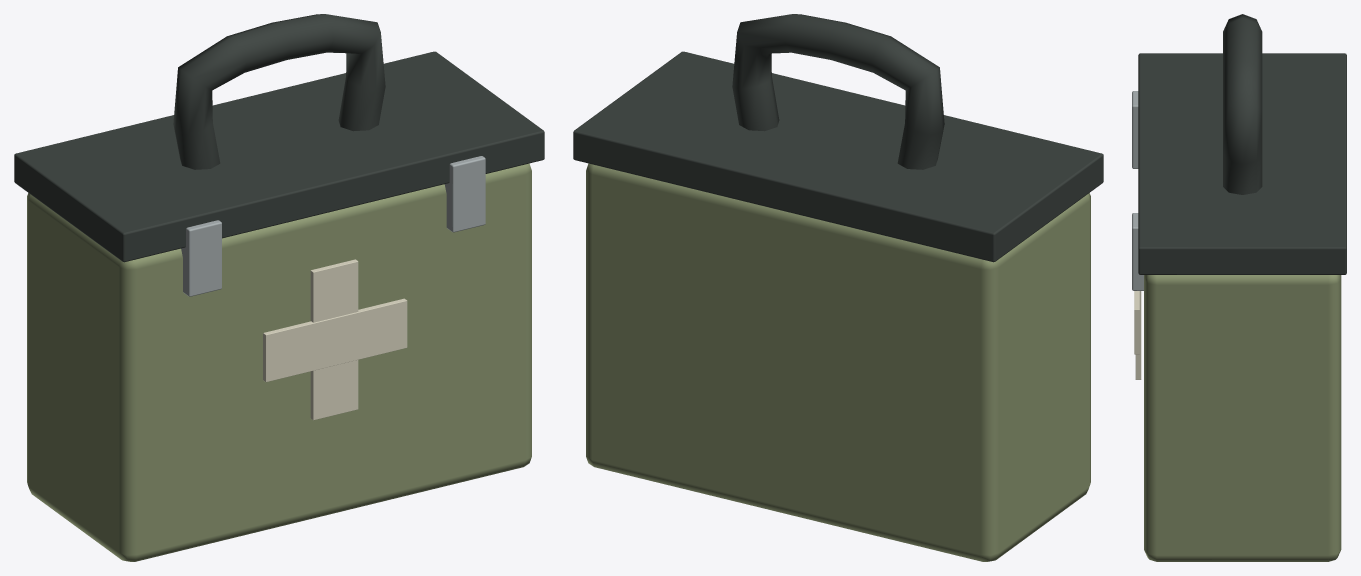
File: field-medicine-and-recovery-first-aid-case-e09200fa__3035.glb
The picture shows the model from 3 angles, left to right: view 1: azimuth 30°, elevation 25°; view 2: azimuth 150°, elevation 25°; view 3: azimuth 270°, elevation 25°; orthographic projection. The views are drawn at different scales.
Visible parts, largest first — view 1: first-aid-case, lid/dark; view 2: first-aid-case, lid/dark; view 3: first-aid-case, lid/dark.
Boxes of the visible parts, <box> form: first-aid-case: <box>27,14,531,561</box>; lid/dark: <box>14,51,544,262</box>; first-aid-case: <box>586,14,1090,561</box>; lid/dark: <box>573,51,1103,262</box>; first-aid-case: <box>1132,14,1341,561</box>; lid/dark: <box>1138,53,1346,274</box>.
Bounding box in the file's own units: 0.328 × 0.3407 × 0.1525.
